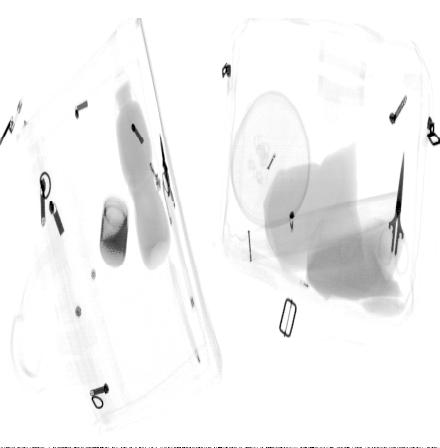Scissors: (378, 151, 408, 282), (160, 132, 175, 201)
